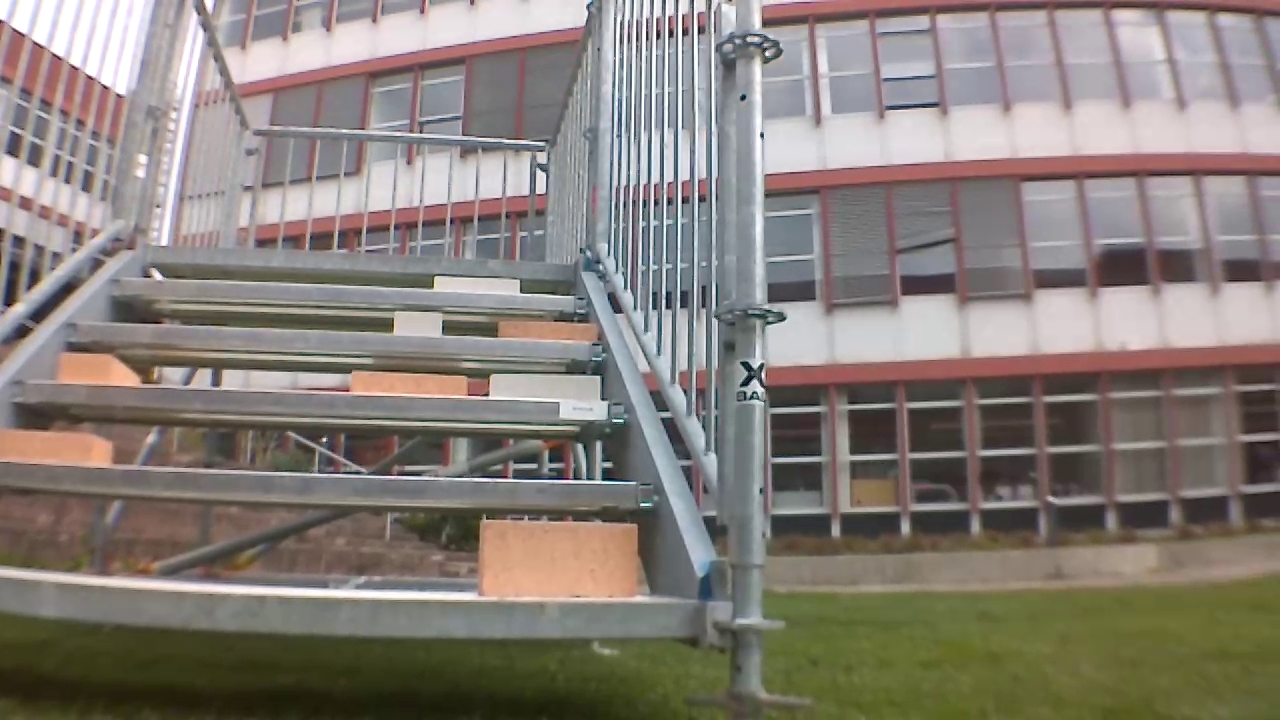brick: (472, 523, 642, 592), (5, 431, 113, 461), (490, 374, 609, 399), (55, 354, 143, 385), (501, 320, 605, 344), (338, 374, 465, 392), (429, 277, 523, 292), (389, 313, 447, 336)
edge: (0, 582, 702, 628), (73, 317, 608, 364), (1, 385, 629, 423), (144, 238, 578, 278), (106, 278, 590, 312), (0, 474, 659, 492)
stairs: (0, 0, 744, 719)
steps: (0, 251, 727, 664)
